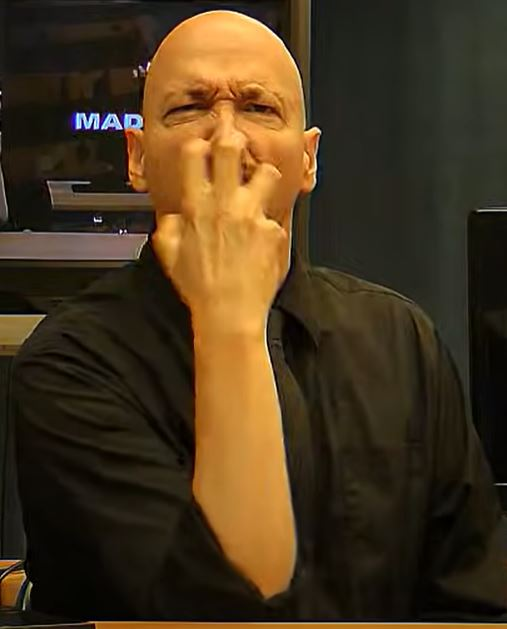Mad: (134, 127, 322, 324)
